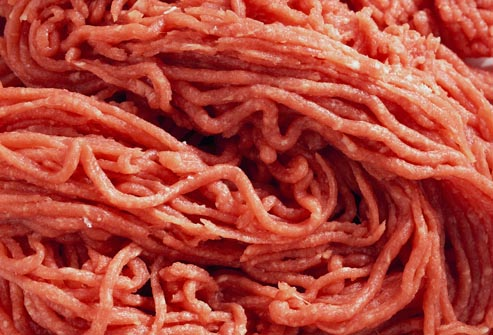ground_beef: (2, 3, 484, 332)
